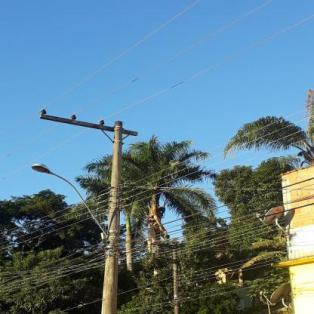Poste: (95, 119, 129, 314)
